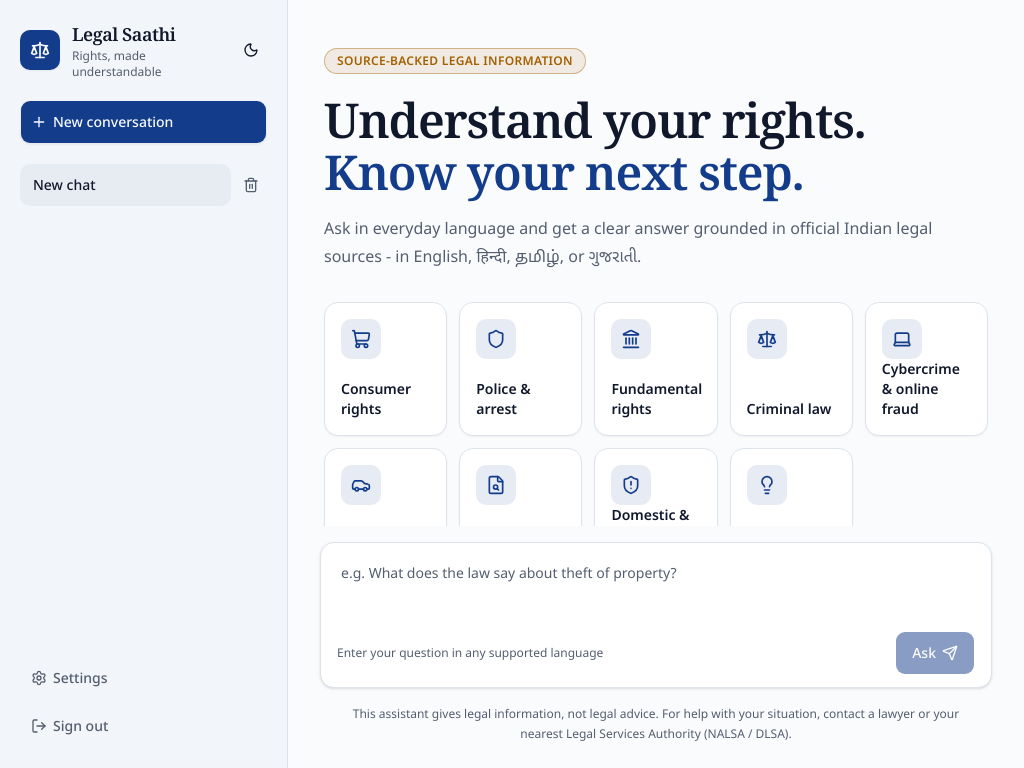
Test: Shell › renders the asked question and streams the assistant answer into the thread
Type "What is the punishment for theft?" into the text box named "your legal question" at (656, 587), box left=333, top=555, right=979, bottom=619
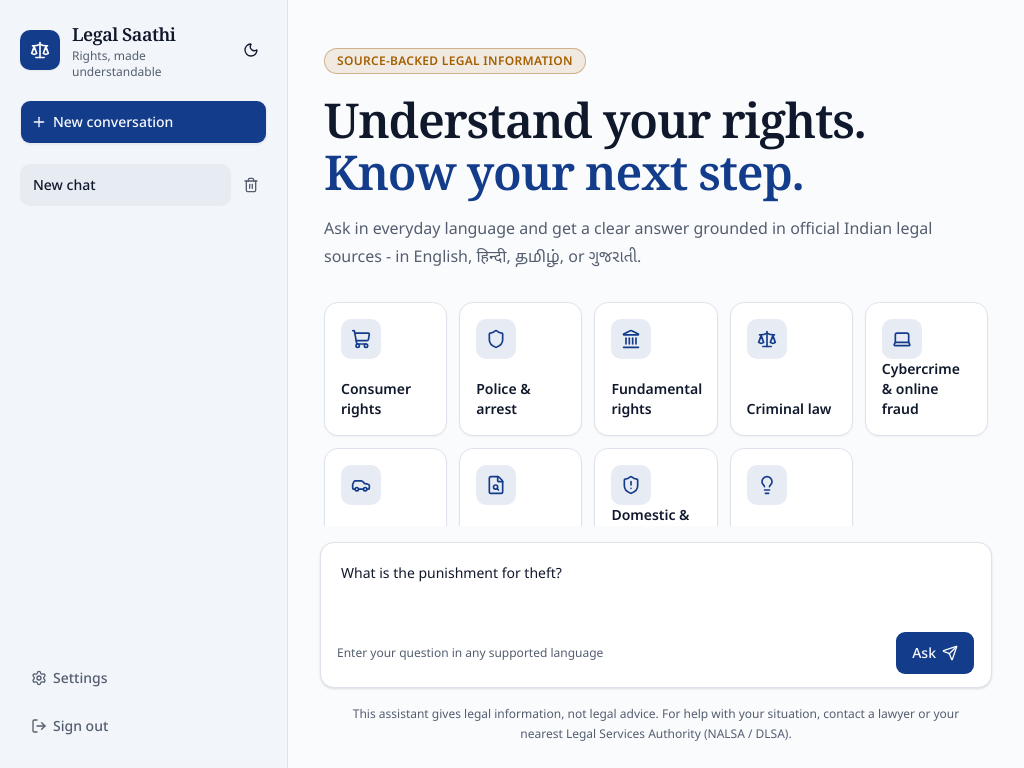
Click the button "Ask" at (935, 653), box left=895, top=631, right=975, bottom=675
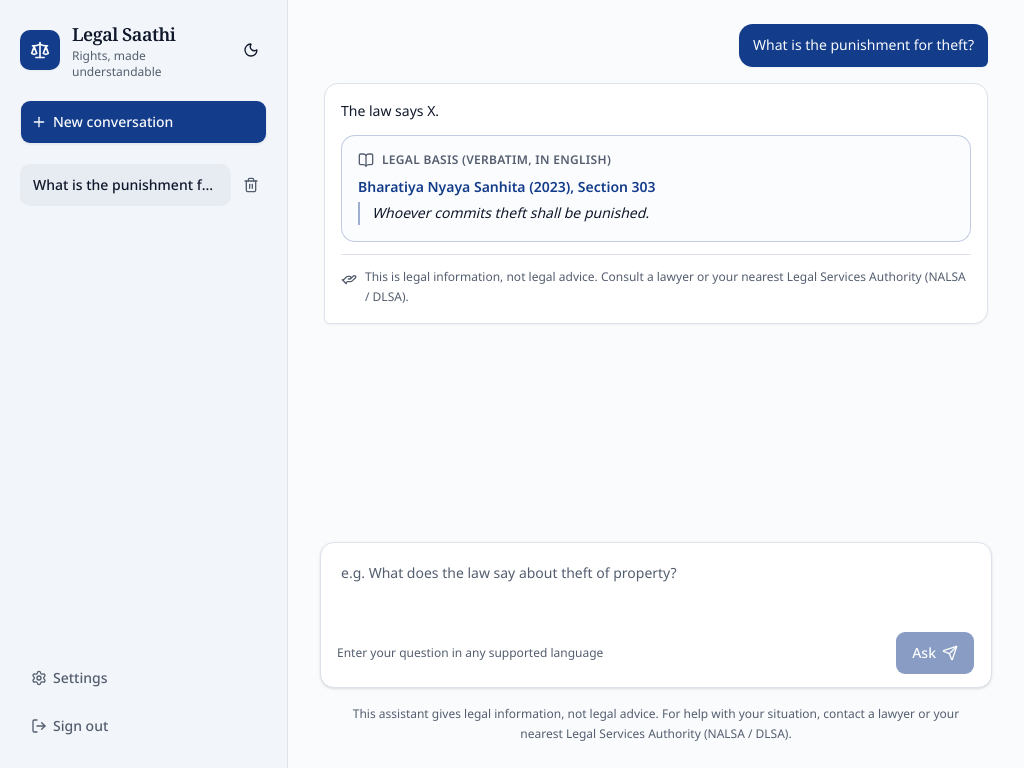
expect the 1st text "What is the punishment for theft?" is shown: met, box left=739, top=24, right=988, bottom=67
expect the text "The law says X." is shown: met, box left=341, top=101, right=439, bottom=120
expect the text "Whoever commits theft shall be punished." is shown: met, box left=358, top=202, right=954, bottom=225
